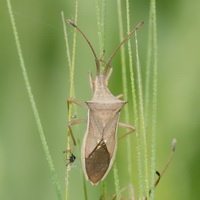insect: (66, 20, 143, 183)
